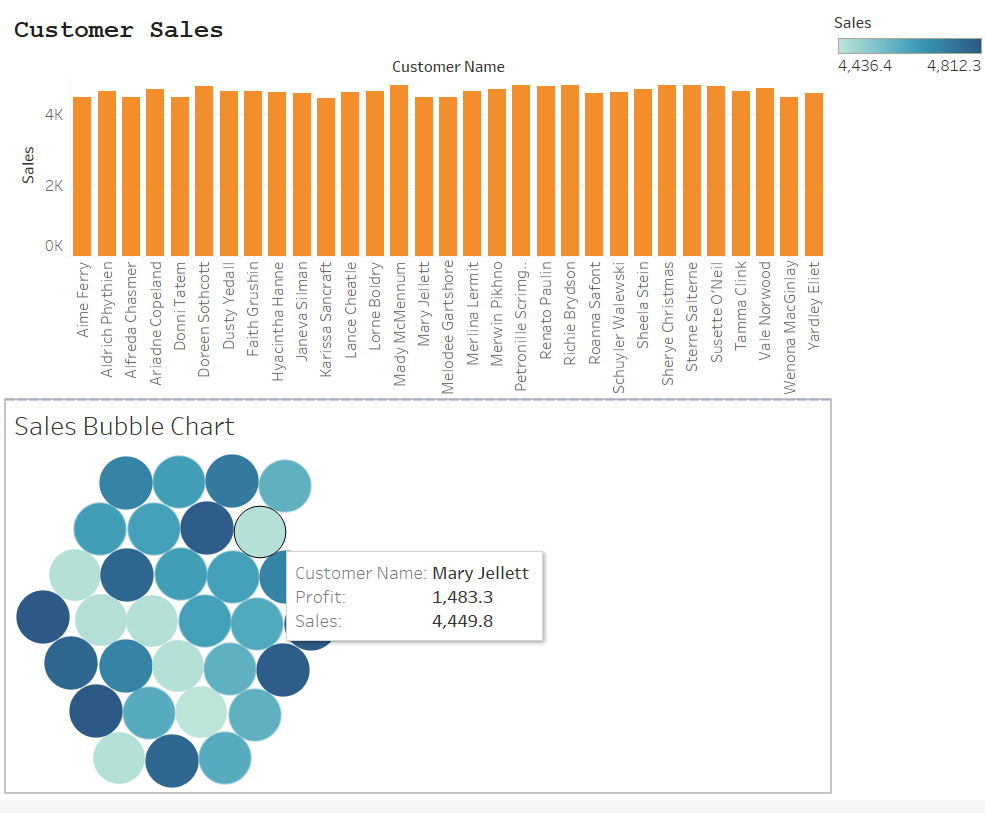

The page's visual inventory and layout, read from the dashboard file:
{"tool":"tableau","page":{"name":"Dashboard 1","canvas":[1000,800],"ordinal":0},"visuals":[{"type":"worksheet","title":"Customer Sales","mark":"Bar","rows":["Sales"],"cols":["Customer Name"],"box":[8,8,824,392]},{"type":"legend","title":"Bubble Chart","param":"[federated.0wd9dtj15e1nw410r4t5q1oz9qcq].[sum:Sales:qk]","box":[832,8,160,73]},{"type":"worksheet","title":"Bubble Chart","mark":"Circle","box":[8,400,824,392]}]}

Visuals, with their boxes on the page's 1000x800 design canvas (x1, y1, x2, y2). These are canvas units, not pixel positions in the 985x813 screenshot, which may show the page scaled, cropped or inside an application window:
"Customer Sales" worksheet (Bar marks): <bbox>8, 8, 832, 400</bbox>
"Bubble Chart" legend: <bbox>832, 8, 992, 81</bbox>
"Bubble Chart" worksheet (Circle marks): <bbox>8, 400, 832, 792</bbox>
